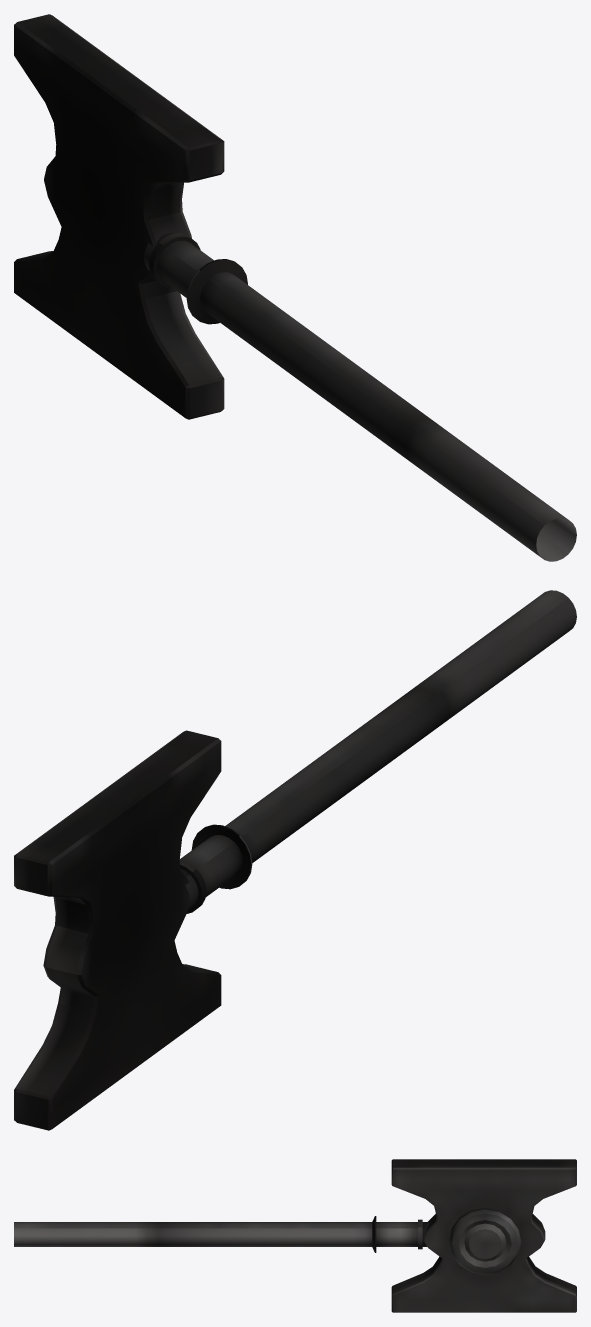
Rendered from pistonIzquierdoExpresoHowarts.obj.
3 views of the same model, one above another, from view 1: azimuth 30°, elevation 25°; view 2: azimuth 150°, elevation 25°; view 3: azimuth 270°, elevation 25° (orthographic). The views are drawn at different scales.
Visible parts, largest first — view 1: polySurface29_Black; view 2: polySurface29_Black; view 3: polySurface29_Black.
Boxes of the visible parts, x1,y1,x2,y2 form: polySurface29_Black: (14, 14, 576, 561); polySurface29_Black: (14, 590, 576, 1130); polySurface29_Black: (14, 1159, 576, 1312).
Size of the model in its own units: 0.2611 by 1.01 by 3.56.
